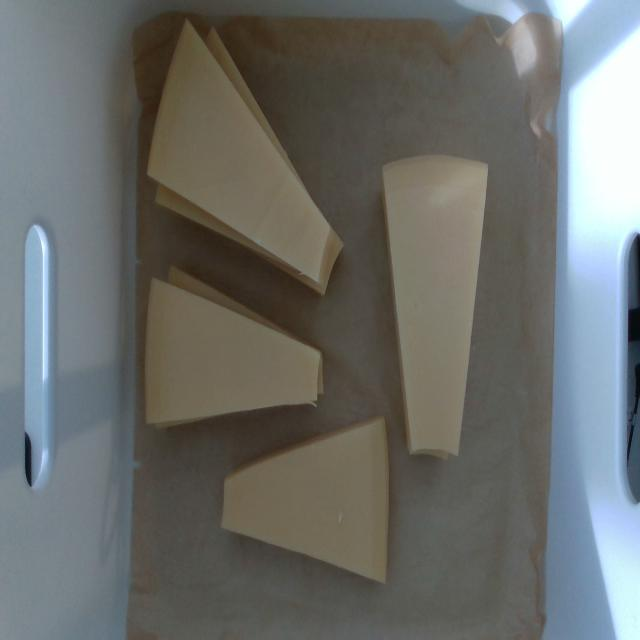Cheese: (148, 21, 328, 278), (381, 156, 486, 455), (222, 419, 388, 581), (146, 279, 320, 424)
